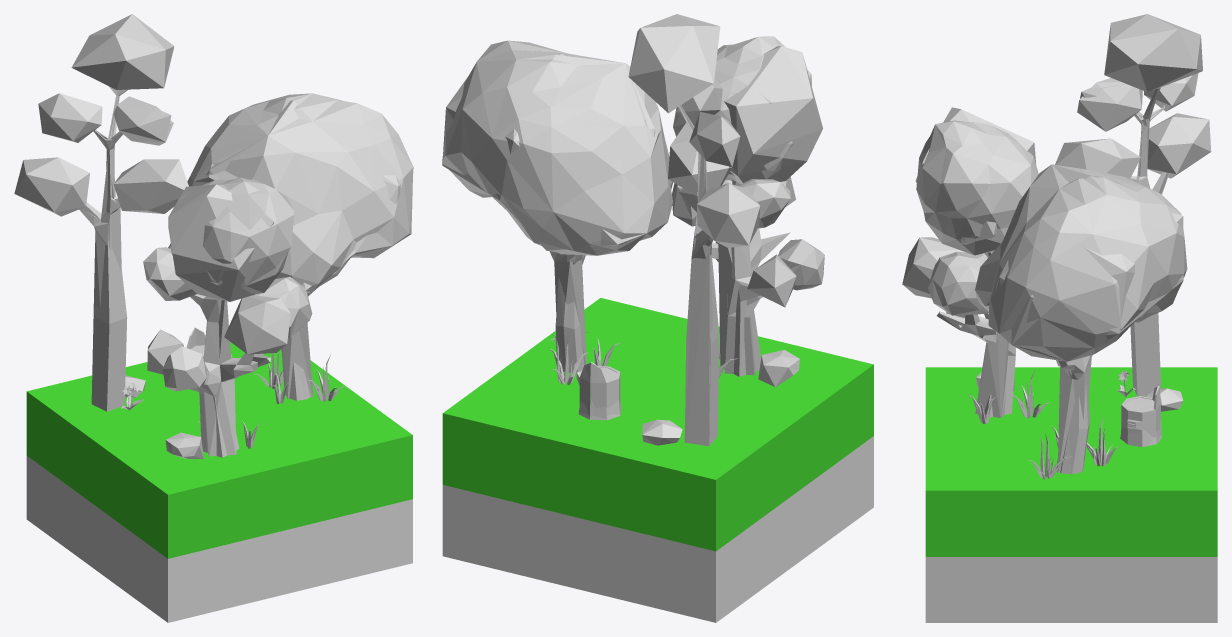
Rendered from foresttile.fbx.
3 views of the same model, side by side, from view 1: azimuth 30°, elevation 25°; view 2: azimuth 150°, elevation 25°; view 3: azimuth 270°, elevation 25° (orthographic). The views are drawn at different scales.
Visible parts, largest first — view 1: Forest, Cube; view 2: Cube, Forest; view 3: Forest, Cube.
Part boxes in pixels (x1,y1,x2,y2): Forest: [14, 14, 413, 458]; Cube: [26, 342, 412, 622]; Cube: [442, 298, 873, 622]; Forest: [442, 14, 824, 445]; Forest: [902, 14, 1211, 479]; Cube: [925, 367, 1217, 622].
Bounding box in the file's own units: 262 × 389 × 216.
